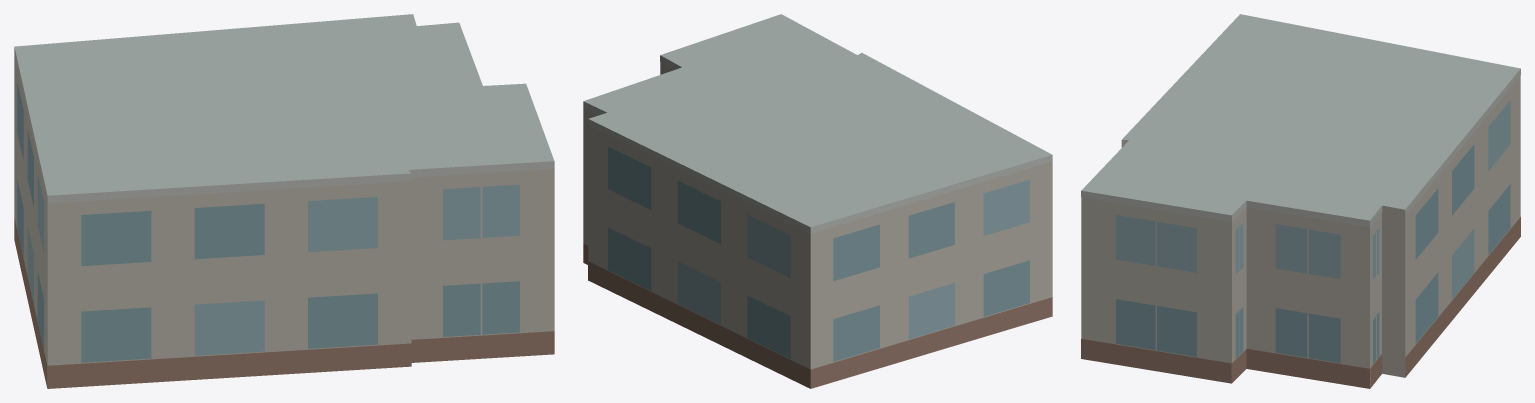
File: survey-upis-32900332.glb
3 views of the same model, side by side, from view 1: azimuth 30°, elevation 25°; view 2: azimuth 150°, elevation 25°; view 3: azimuth 270°, elevation 25° (orthographic). The views are drawn at different scales.
Visible parts, largest first — view 1: survey-upis-32900332.tmp; view 2: survey-upis-32900332.tmp; view 3: survey-upis-32900332.tmp.
Part boxes in pixels (x1,y1,x2,y2): survey-upis-32900332.tmp: [14, 14, 554, 388]; survey-upis-32900332.tmp: [583, 14, 1052, 388]; survey-upis-32900332.tmp: [1081, 14, 1520, 388].
Size of the model in its own units: 16.08 by 6.1 by 14.46.
